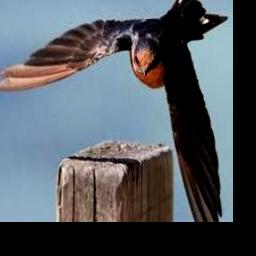Swallow: (0, 0, 228, 222)
